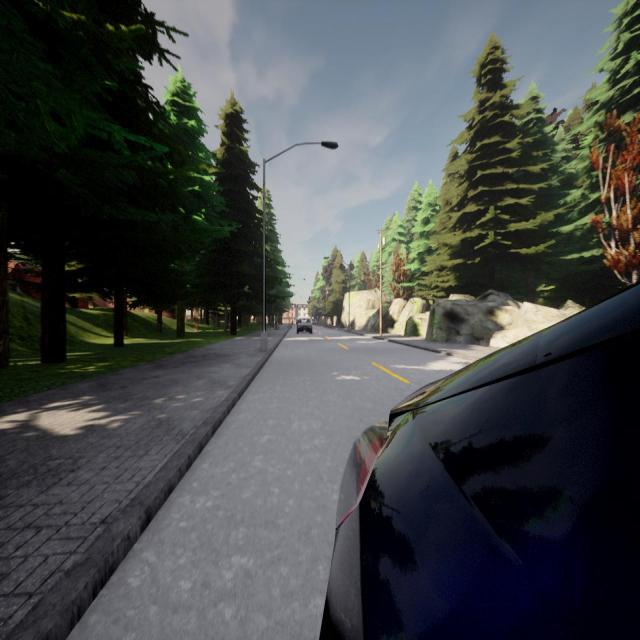Vehicle: (322, 284, 640, 638), (296, 317, 314, 335)
